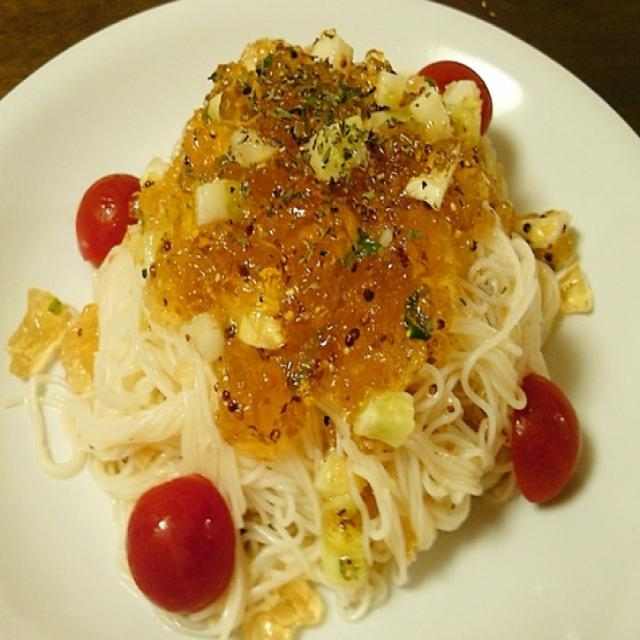面条主食: (20, 15, 603, 626)
